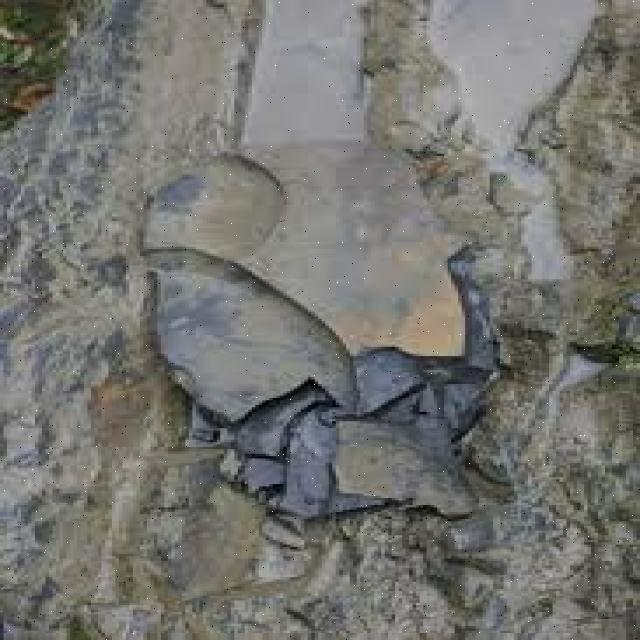Metamorphic: (17, 109, 633, 638)
